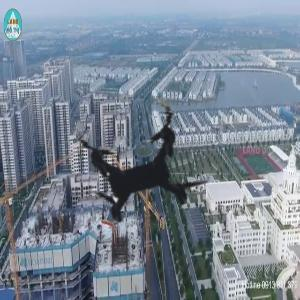drone: (27, 58, 250, 281)
